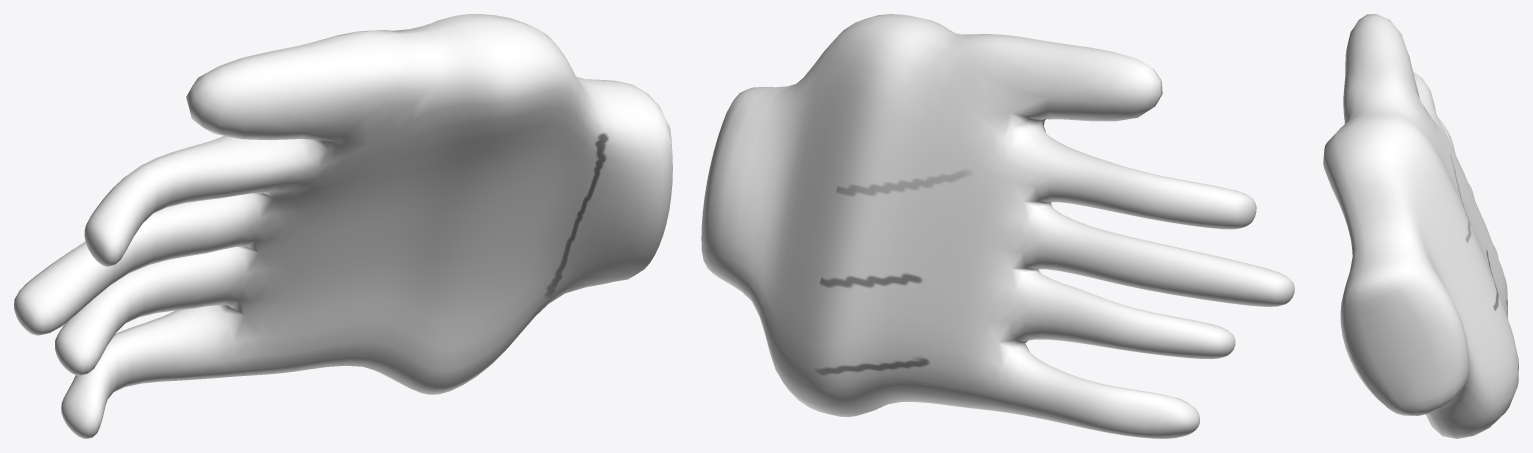
The model's file is mao dir.fbx.
The picture shows the model from 3 angles, left to right: view 1: azimuth 30°, elevation 25°; view 2: azimuth 150°, elevation 25°; view 3: azimuth 270°, elevation 25°; orthographic projection. The views are drawn at different scales.
Parts seen in each view (by area): view 1: Cube.000; view 2: Cube.000; view 3: Cube.000.
Part boxes in pixels (x1,y1,x2,y2): Cube.000: (14, 14, 672, 438); Cube.000: (701, 14, 1294, 438); Cube.000: (1323, 14, 1518, 438).
Size of the model in its own units: 90.11 by 57.7 by 32.12.
1 material, 1 textured.
